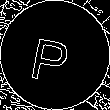P_N: (32, 27, 78, 83)
